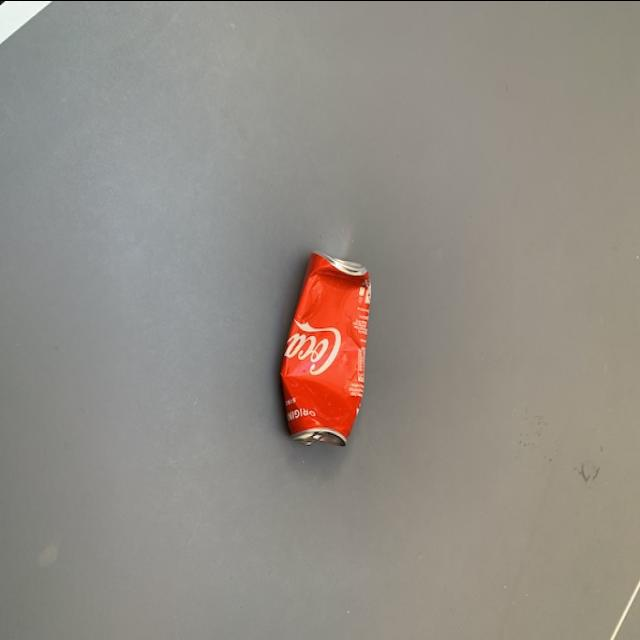litter: (274, 233, 388, 462)
